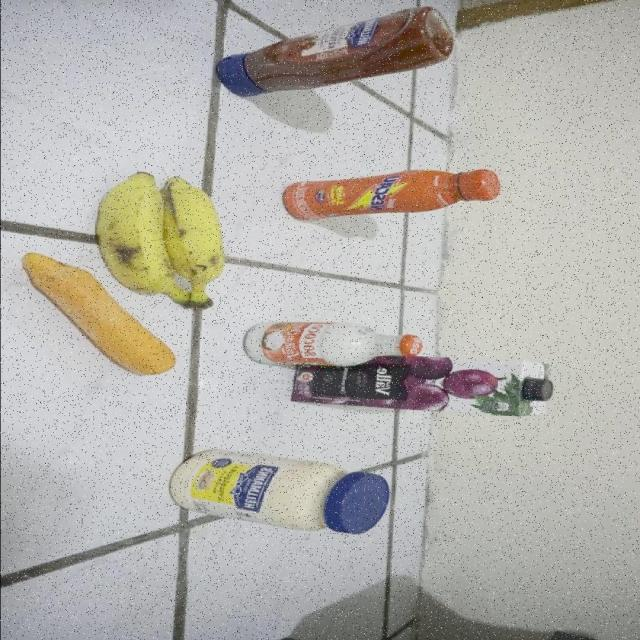Banana: (96, 166, 244, 296)
Carrot: (63, 300, 188, 377)
ChocolateMilk: (279, 168, 503, 224)
CoconutMilk: (242, 317, 424, 370)
Ketchup: (209, 7, 457, 96)
Mayonnaise: (167, 443, 396, 535)
